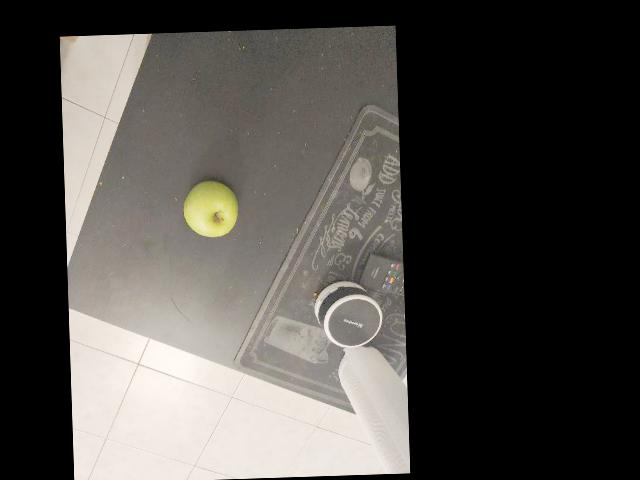apple: (78, 308, 173, 369)
